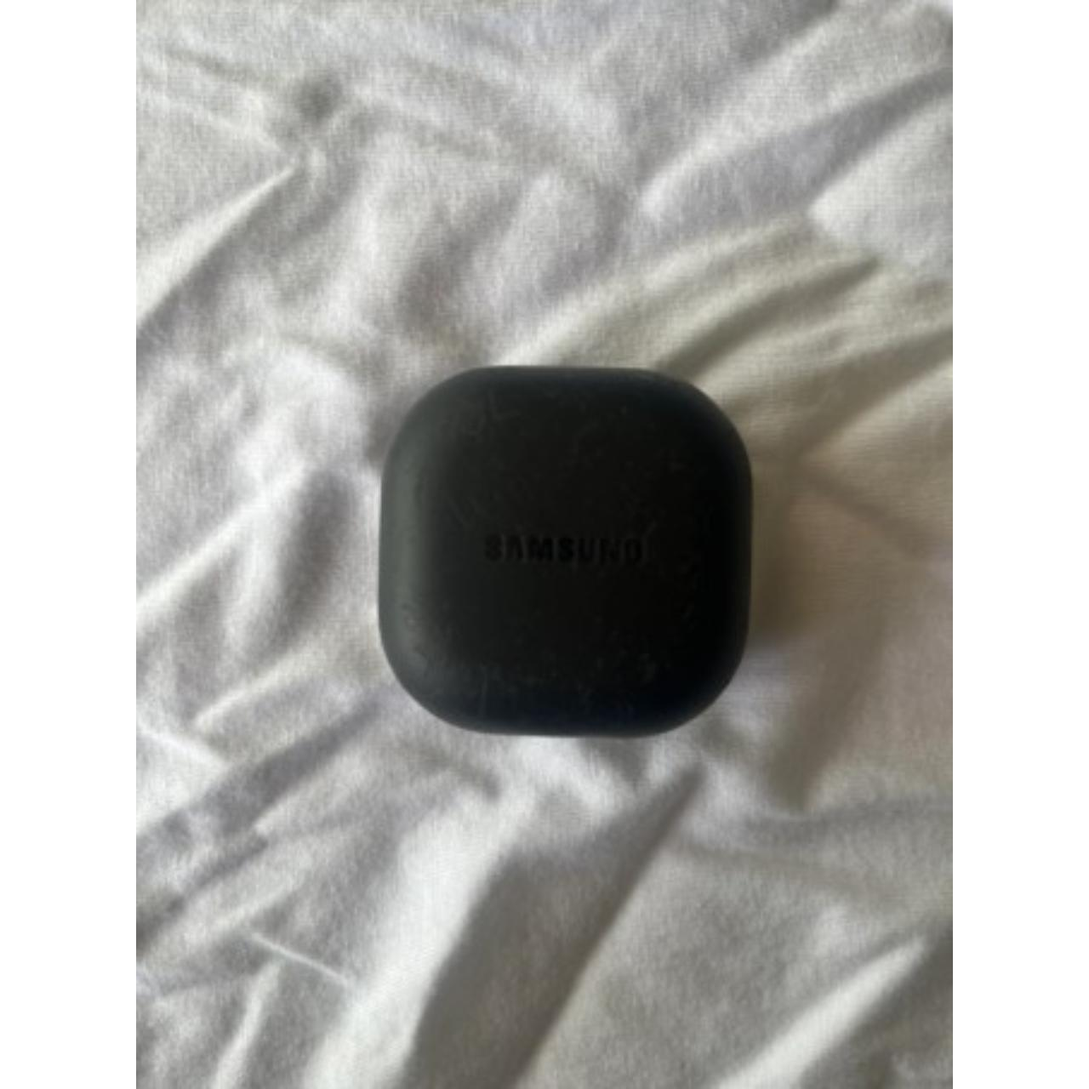Buds: (377, 361, 761, 741)
